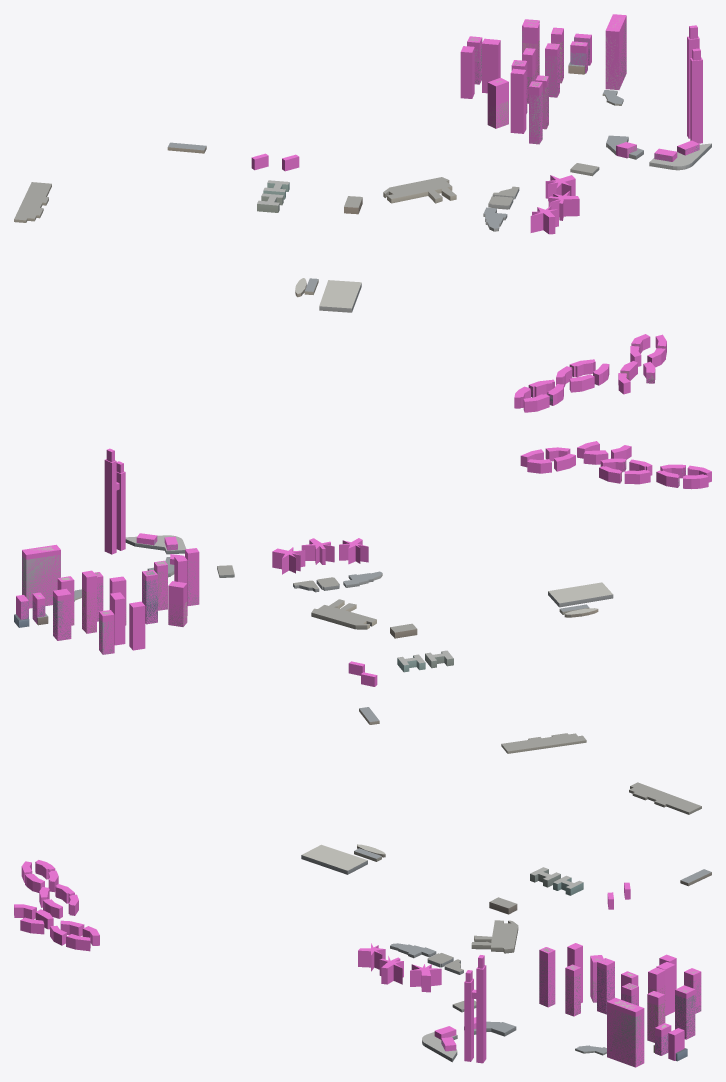
File: bld_5_1.fbx
3 renders of one model, top to bottom at view 1: azimuth 30°, elevation 25°; view 2: azimuth 150°, elevation 25°; view 3: azimuth 270°, elevation 25°, orthographic. The views are drawn at different scales.
Parts seen in each view (by area): view 1: bld_5_1_COL, bld_5_1_LOD0; view 2: bld_5_1_COL, bld_5_1_LOD0; view 3: bld_5_1_COL, bld_5_1_LOD0.
Boxes of the visible parts, <box> form: bld_5_1_COL: <box>251,14,702,412</box>; bld_5_1_LOD0: <box>14,18,711,404</box>; bld_5_1_COL: <box>16,441,711,686</box>; bld_5_1_LOD0: <box>14,462,685,753</box>; bld_5_1_COL: <box>14,860,701,1067</box>; bld_5_1_LOD0: <box>301,782,711,1066</box>.
Size of what is drawn, in the model's own units: 1977 by 340 by 2062.
